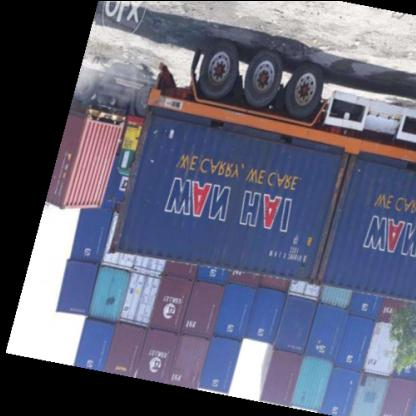Damage: (308, 154, 352, 288)
